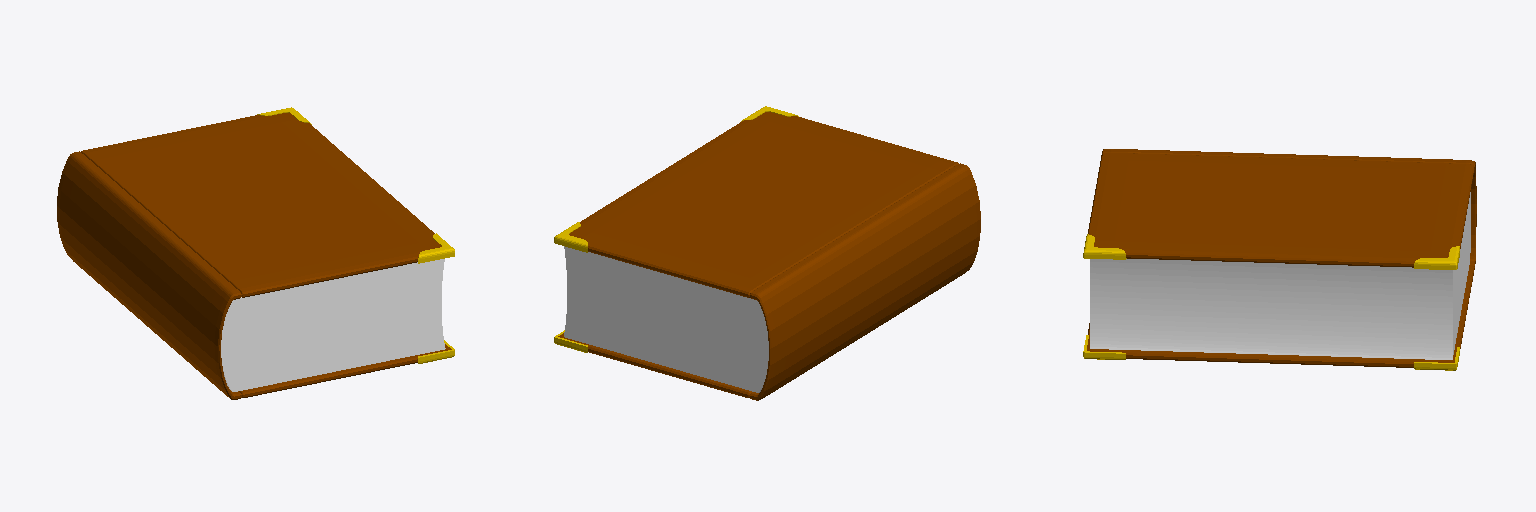
Rendered from Book.obj.
3 renders of one model, left to right at view 1: azimuth 30°, elevation 25°; view 2: azimuth 150°, elevation 25°; view 3: azimuth 270°, elevation 25°, orthographic.
Visible parts, largest first — view 1: Line044.001, Line046.001, Line048.001; view 2: Line044.001, Line046.001; view 3: Line044.001, Line046.001, Line049.001, Line048.001.
Boxes of the visible parts, x1,y1,x2,y2 form: Line044.001: [57, 113, 451, 399]; Line046.001: [221, 259, 445, 391]; Line048.001: [418, 233, 454, 263]; Line044.001: [558, 112, 980, 400]; Line046.001: [564, 246, 768, 392]; Line044.001: [1087, 149, 1476, 367]; Line046.001: [1090, 192, 1470, 359]; Line049.001: [1414, 246, 1459, 269]; Line048.001: [1083, 234, 1126, 259].
Size of the model in its own units: 40.5 by 16.79 by 54.9.